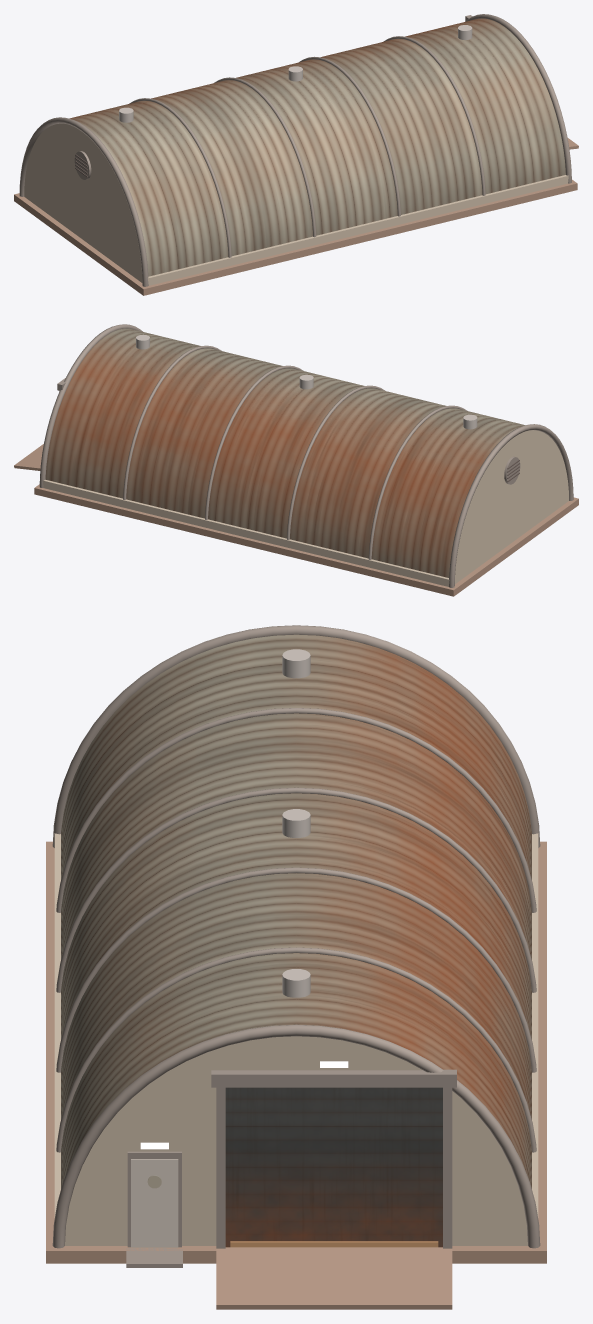
File: I04_arched_hall_5seg.glb
3 views of the same model, one above another, from view 1: azimuth 30°, elevation 25°; view 2: azimuth 150°, elevation 25°; view 3: azimuth 270°, elevation 25° (orthographic). The views are drawn at different scales.
Visible parts, largest first — view 1: vault, gable_wall, segment_rib (×6), foundation, base_beam; view 2: vault, gable_wall, segment_rib (×6), foundation, base_beam, ramp; view 3: vault, large_door, segment_rib (×6), gable_wall, ramp, foundation, base_beam (×2), door_header, small_door, door_jamb (×2), door_bottom_bar, small_door_frame (+1 smaller).
Boxes of the visible parts, box(x1,y1,x2,y2) form: vault: box(69, 18, 565, 276); gable_wall: box(24, 123, 142, 282); segment_rib (×6): box(19, 14, 571, 286); foundation: box(14, 179, 577, 295); base_beam: box(148, 175, 568, 285); vault: box(45, 328, 524, 577); gable_wall: box(455, 430, 568, 583); segment_rib (×6): box(39, 324, 573, 587); foundation: box(34, 484, 578, 596); base_beam: box(42, 480, 449, 586); ramp: box(14, 444, 43, 470); vault: box(61, 634, 531, 1188); large_door: box(225, 1087, 442, 1247); segment_rib (×6): box(52, 625, 540, 1248); gable_wall: box(65, 1036, 527, 1245); ramp: box(216, 1247, 452, 1309); foundation: box(46, 841, 546, 1263); base_beam (×2): box(54, 833, 538, 1217); door_header: box(211, 1069, 456, 1087); small_door: box(131, 1159, 178, 1247); door_jamb (×2): box(216, 1087, 452, 1248); door_bottom_bar: box(230, 1241, 438, 1247); small_door_frame: box(127, 1151, 181, 1247).
Bounding box in the file's own units: 22.65 × 5.78 × 10.6.
12 materials, 2 textured.
